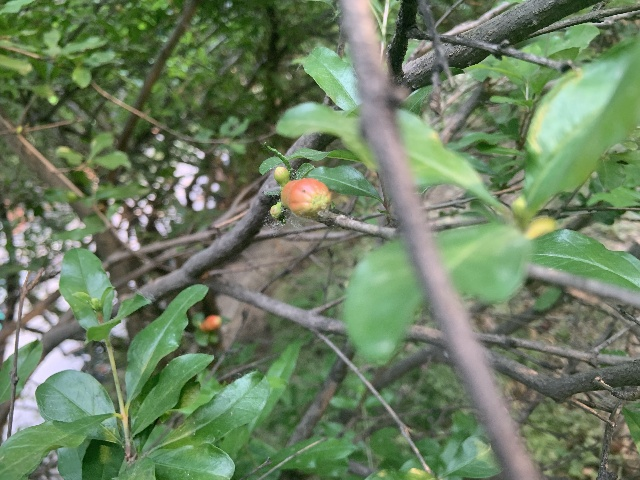bud: (281, 177, 331, 216), (201, 314, 221, 330), (273, 166, 289, 186), (270, 202, 281, 218)
